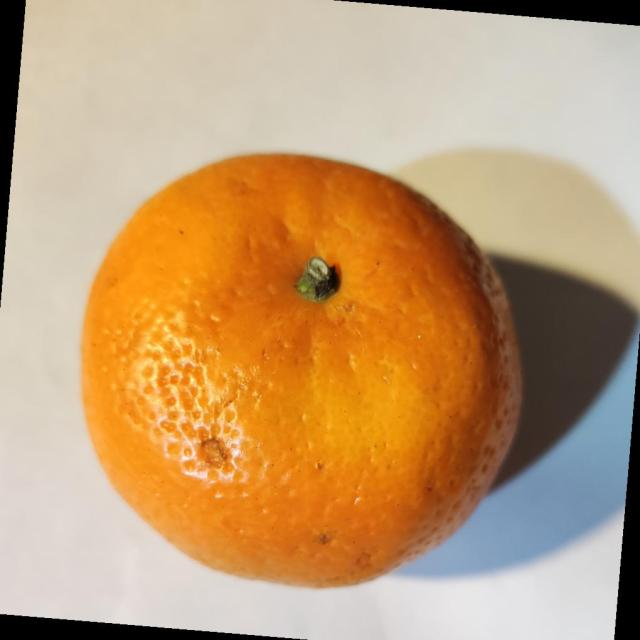fresh orange: (79, 150, 524, 589)
